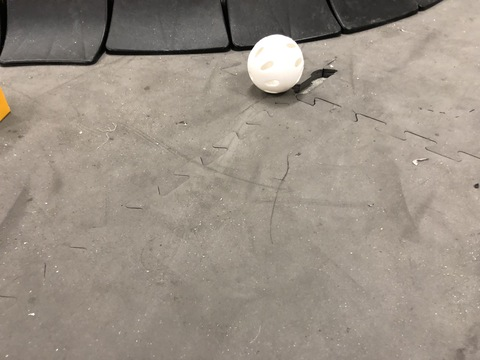ball: (225, 33, 318, 107)
block: (1, 69, 17, 128)
